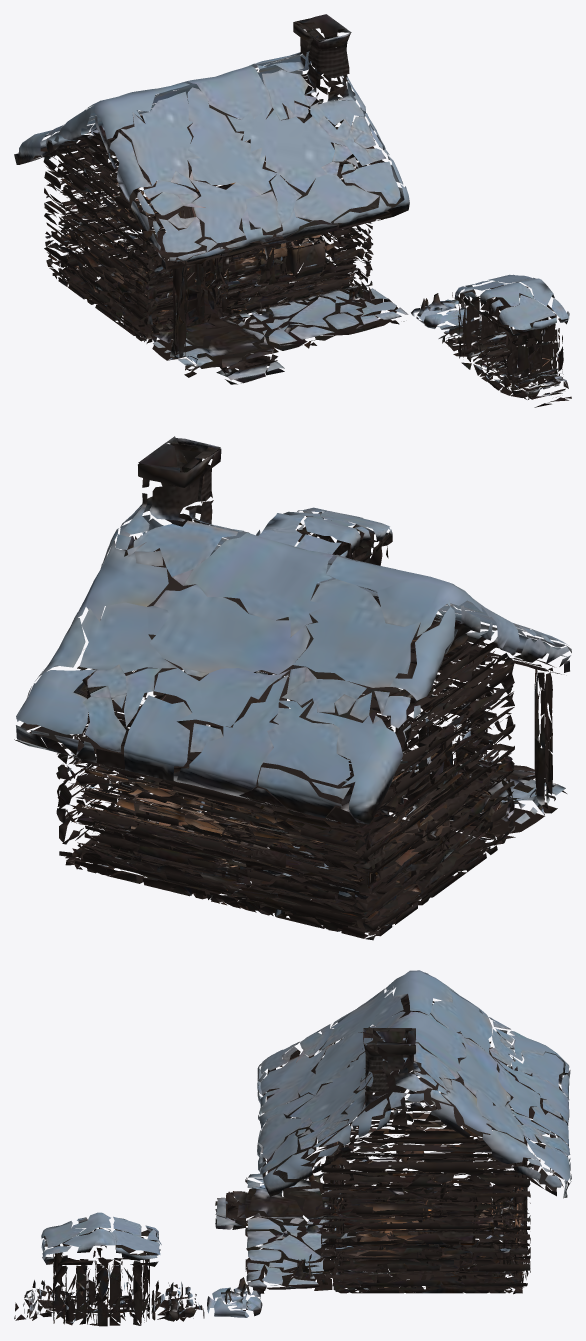
Rendered from nhatuyet_opt.glb.
3 renders of one model, top to bottom at view 1: azimuth 30°, elevation 25°; view 2: azimuth 150°, elevation 25°; view 3: azimuth 270°, elevation 25°, orthographic. The views are drawn at different scales.
Parts seen in each view (by area): view 1: nhatuyet_opt; view 2: nhatuyet_opt; view 3: nhatuyet_opt.
Boxes of the visible parts, x1,y1,x2,y2 form: nhatuyet_opt: (14,14,571,407); nhatuyet_opt: (14,436,571,940); nhatuyet_opt: (14,970,571,1326).
Size of the model in its own units: 1.19 by 0.9559 by 1.9.
1 material, 1 textured.
